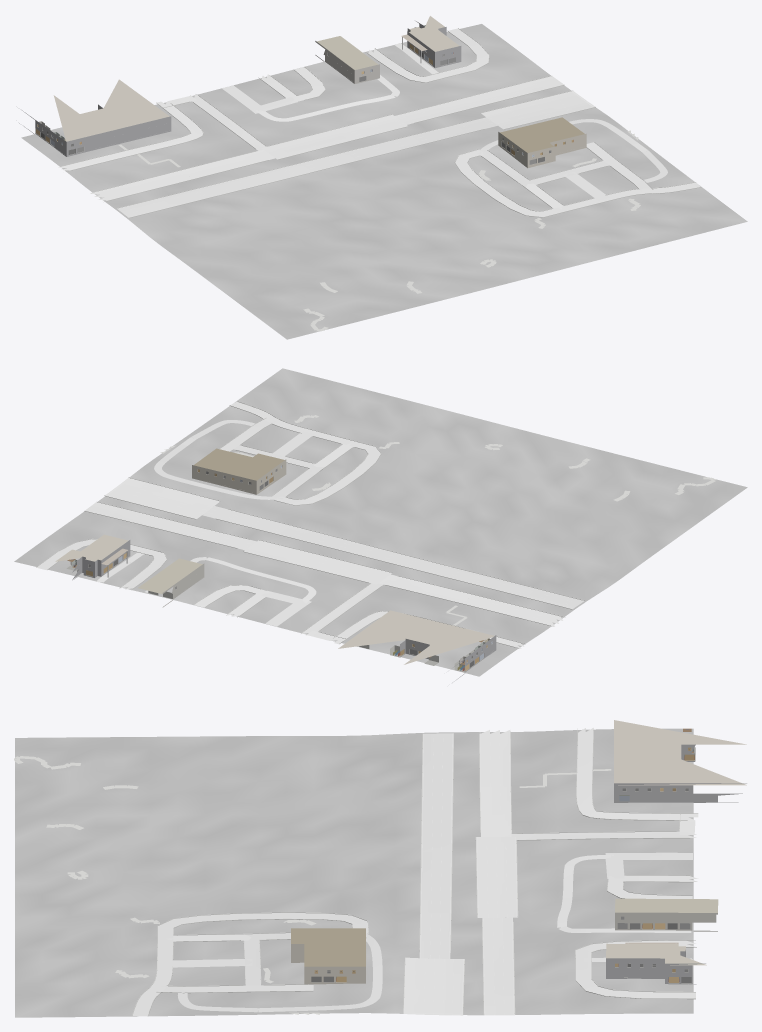
3 renders of one model, top to bottom at view 1: azimuth 30°, elevation 25°; view 2: azimuth 150°, elevation 25°; view 3: azimuth 270°, elevation 25°, orthographic. The views are drawn at different scales.
Parts seen in each view (by area): view 1: ground, asphalt, concrete, roof_flat, wall_com, curb, walk, mark_w; view 2: ground, asphalt, concrete, roof_flat, curb, wall_com, walk, room, mark_w; view 3: ground, asphalt, concrete, roof_flat, wall_com, curb, walk, mark_w, glass, mark_y, glass_lit.
Boxes of the visible parts, x1,y1,x2,y2 form: ground: [21, 24, 747, 339]; asphalt: [90, 76, 594, 217]; concrete: [58, 28, 700, 216]; roof_flat: [53, 16, 584, 152]; wall_com: [19, 21, 586, 168]; curb: [60, 28, 700, 217]; walk: [118, 130, 640, 331]; mark_w: [96, 76, 595, 217]; ground: [14, 368, 747, 676]; asphalt: [85, 478, 583, 626]; concrete: [36, 401, 524, 648]; roof_flat: [55, 448, 494, 664]; curb: [36, 401, 584, 648]; wall_com: [72, 459, 496, 682]; walk: [160, 415, 715, 625]; room: [66, 478, 490, 672]; mark_w: [85, 478, 582, 625]; ground: [15, 728, 693, 1017]; asphalt: [403, 730, 517, 1015]; concrete: [132, 728, 698, 1016]; roof_flat: [291, 720, 746, 966]; wall_com: [291, 744, 746, 984]; curb: [132, 728, 698, 1015]; walk: [14, 756, 611, 1014]; mark_w: [404, 732, 516, 1014]; glass: [311, 788, 691, 982]; mark_y: [449, 732, 485, 1014]; glass_lit: [314, 747, 694, 982].
Size of the model in its own units: 253 by 13.1 by 270.
